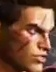kevin: (5, 1, 51, 70)
